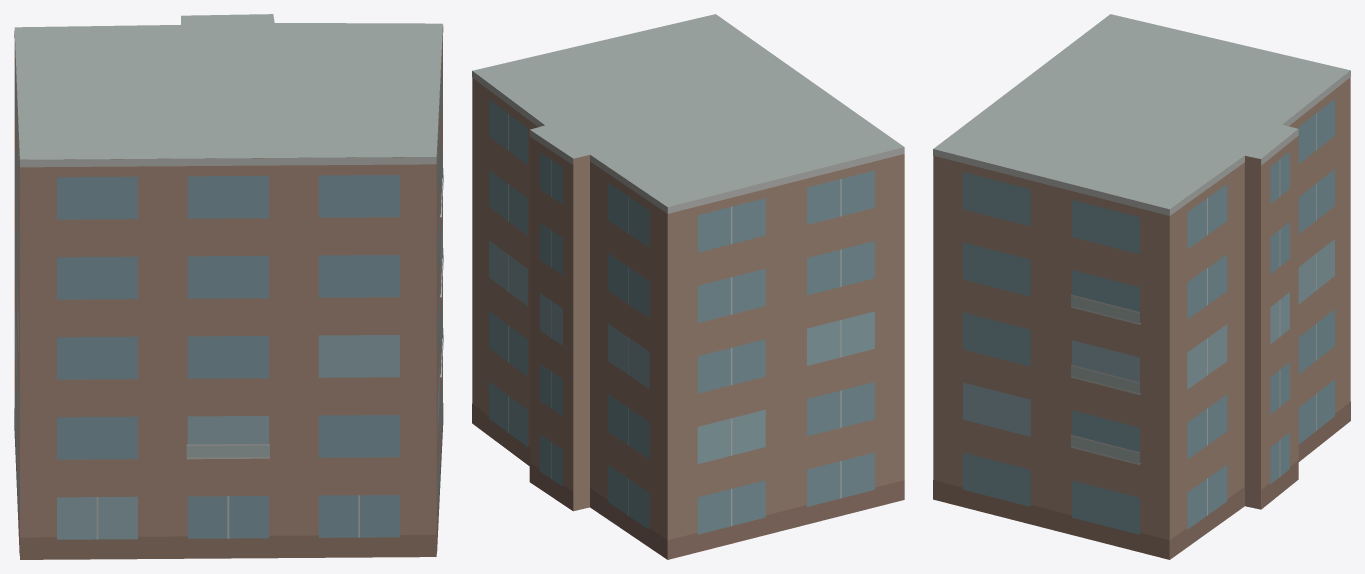
File: survey-upis-32686267.glb
3 views of the same model, side by side, from view 1: azimuth 30°, elevation 25°; view 2: azimuth 150°, elevation 25°; view 3: azimuth 270°, elevation 25° (orthographic). The views are drawn at different scales.
Parts seen in each view (by area): view 1: survey-upis-32686267.tmp; view 2: survey-upis-32686267.tmp; view 3: survey-upis-32686267.tmp.
Boxes of the visible parts, bbox=[...] form: survey-upis-32686267.tmp: bbox=[14, 14, 443, 559]; survey-upis-32686267.tmp: bbox=[472, 14, 904, 559]; survey-upis-32686267.tmp: bbox=[933, 14, 1350, 559].
Bounding box in the file's own units: 15.43 × 12.9 × 13.94.
